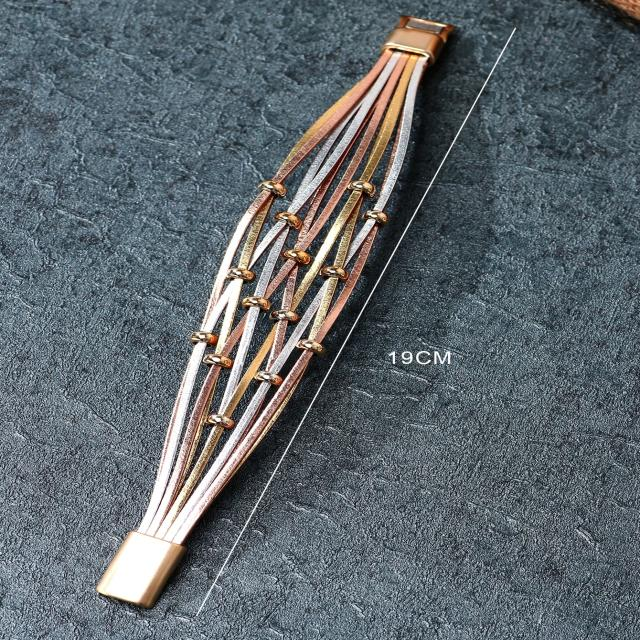bracelet: (46, 2, 500, 640)
